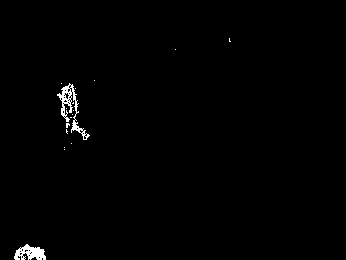person: (52, 80, 94, 148)
